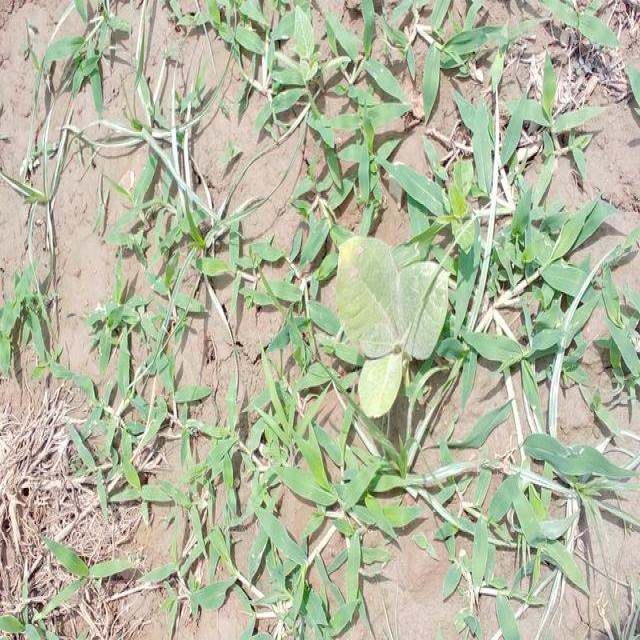crop: (323, 232, 452, 429)
